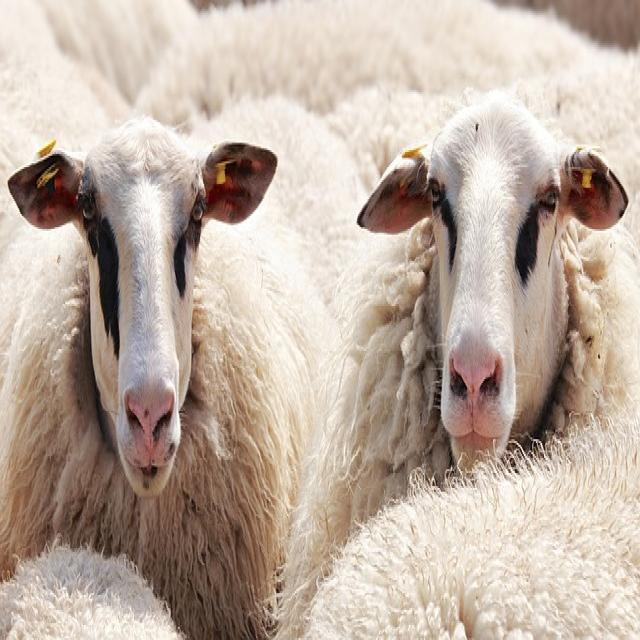goat: (0, 120, 338, 640), (283, 92, 640, 569)
